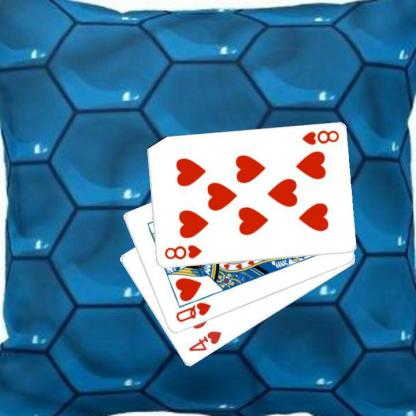4H: (186, 328, 222, 354)
8H: (162, 242, 203, 261), (299, 128, 340, 146)
QH: (173, 300, 212, 324)
